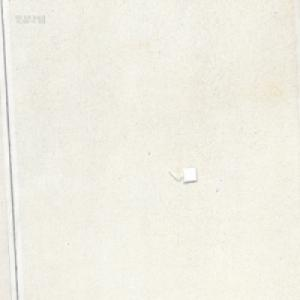LuggageTag: (167, 166, 197, 182)
